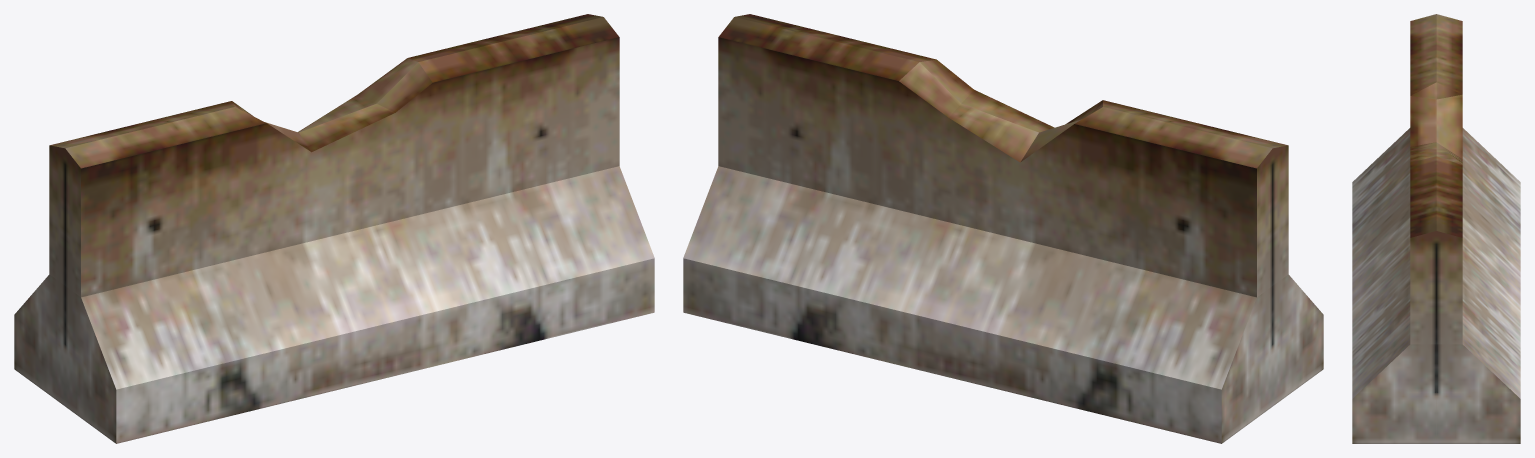
Rendered from Jersey_barrier_broken_center_dirty.fbx.
3 views of the same model, side by side, from view 1: azimuth 30°, elevation 25°; view 2: azimuth 150°, elevation 25°; view 3: azimuth 270°, elevation 25° (orthographic). The views are drawn at different scales.
Visible parts, largest first — view 1: Jersey_barrier_broken_center_dirty; view 2: Jersey_barrier_broken_center_dirty; view 3: Jersey_barrier_broken_center_dirty.
Boxes of the visible parts, bbox=[...] form: Jersey_barrier_broken_center_dirty: bbox=[14, 14, 654, 443]; Jersey_barrier_broken_center_dirty: bbox=[683, 14, 1323, 443]; Jersey_barrier_broken_center_dirty: bbox=[1352, 14, 1520, 443].
Size of the model in its own units: 248 by 114 by 81.44.
1 material, 1 textured.
